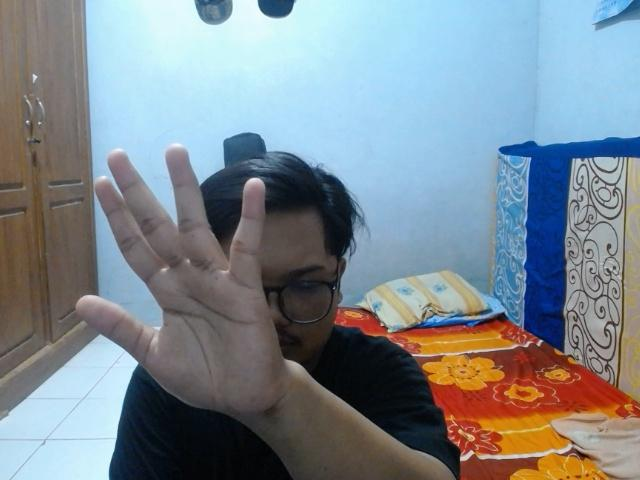Release: (71, 141, 287, 420)
